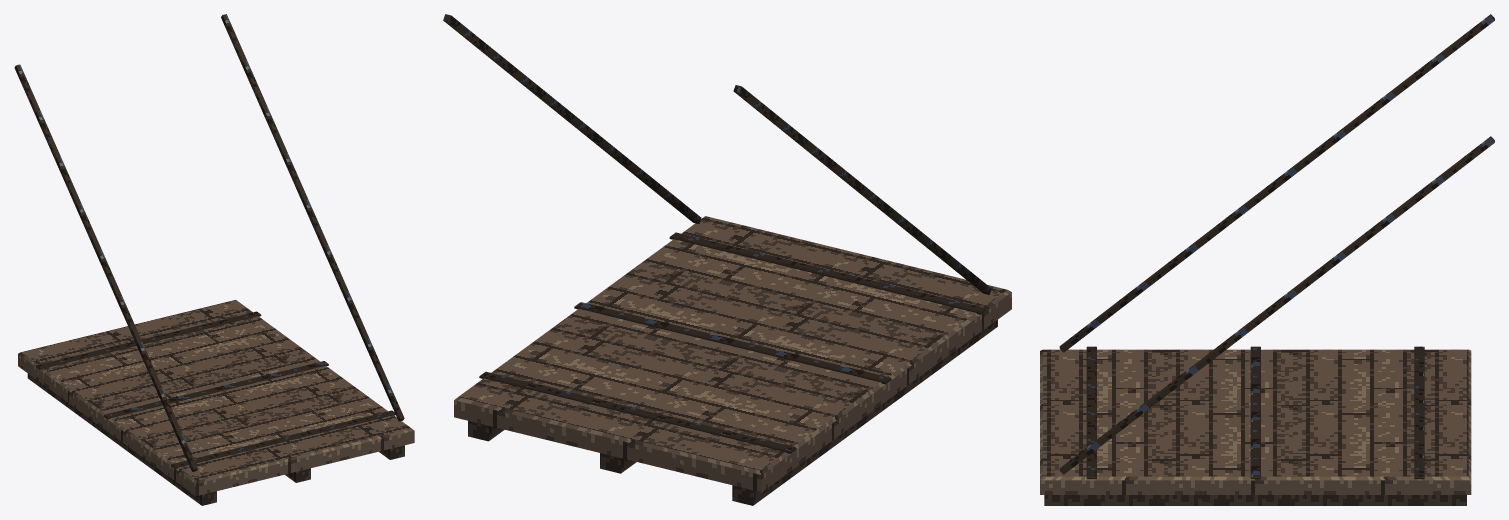
The model's file is cst.drawbridge.glb.
3 views of the same model, side by side, from view 1: azimuth 30°, elevation 25°; view 2: azimuth 150°, elevation 25°; view 3: azimuth 270°, elevation 25° (orthographic). The views are drawn at different scales.
Parts seen in each view (by area): view 1: kit_deck, kit_iron; view 2: kit_deck, kit_iron; view 3: kit_deck, kit_iron.
Part boxes in pixels (x1,y1,x2,y2): kit_deck: [18, 300, 414, 505]; kit_iron: [14, 14, 404, 471]; kit_deck: [454, 216, 1011, 505]; kit_iron: [443, 14, 991, 453]; kit_deck: [1040, 349, 1471, 505]; kit_iron: [1059, 14, 1494, 479].
Size of the model in its own units: 3.59 by 4.75 by 5.27.
3 materials, 3 textured.
